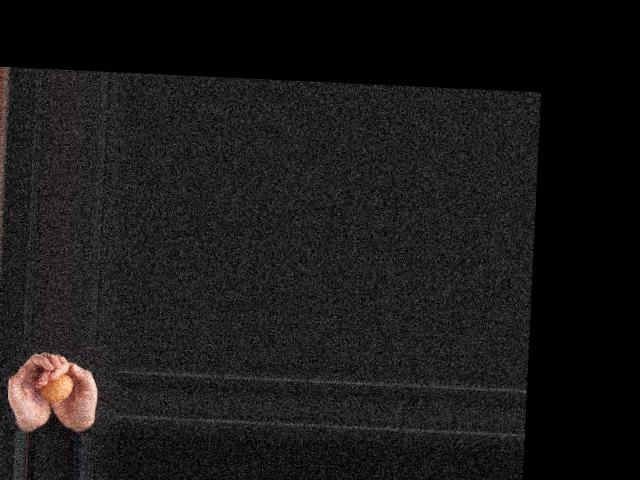egg: (38, 373, 73, 403)
